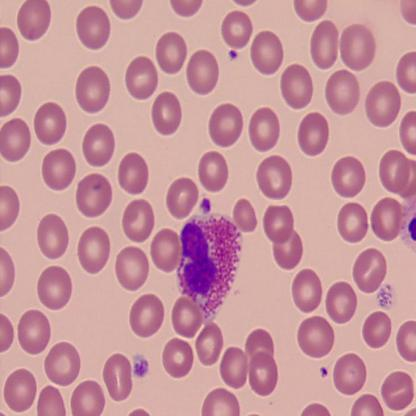Eosinophil: (177, 198, 244, 314)
